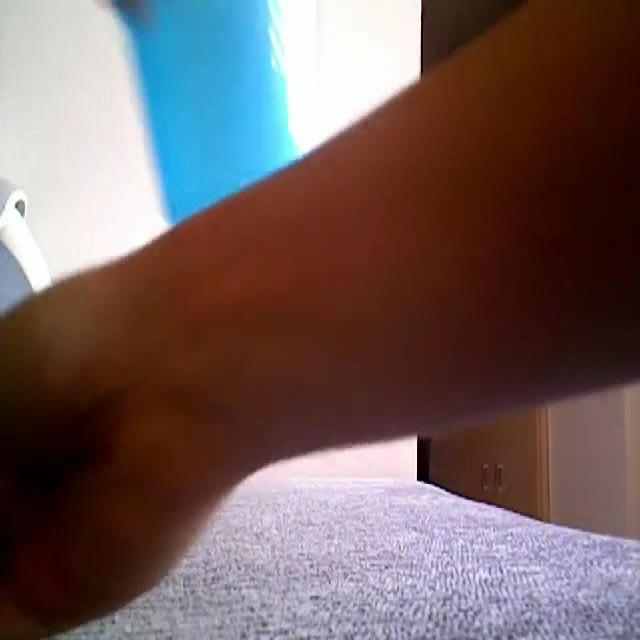cup: (127, 0, 292, 221)
